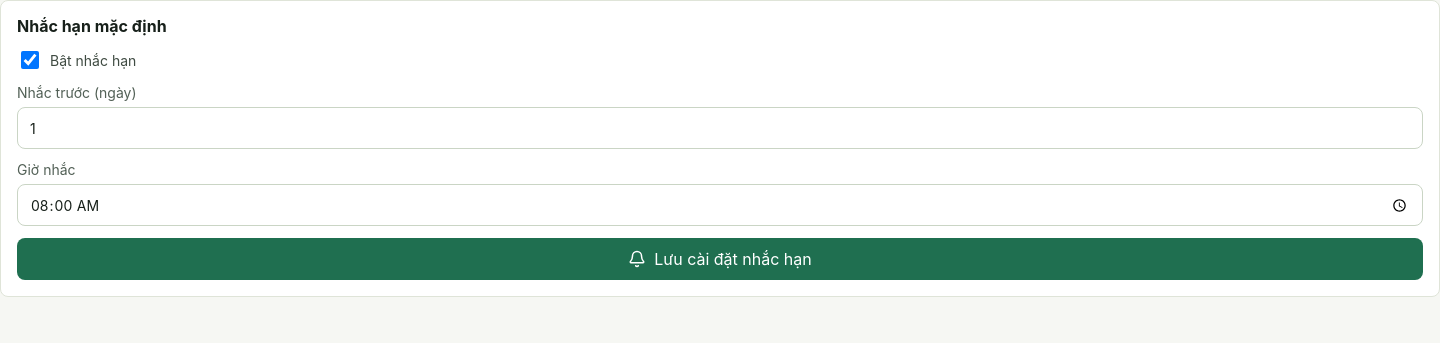
Test: ReminderSettings › keeps invalid global reminder values out of persistence
Replace the text in the field labelled "Nhắc trước (ngày)" with "-1" at (720, 128), box [17,107,1423,149]
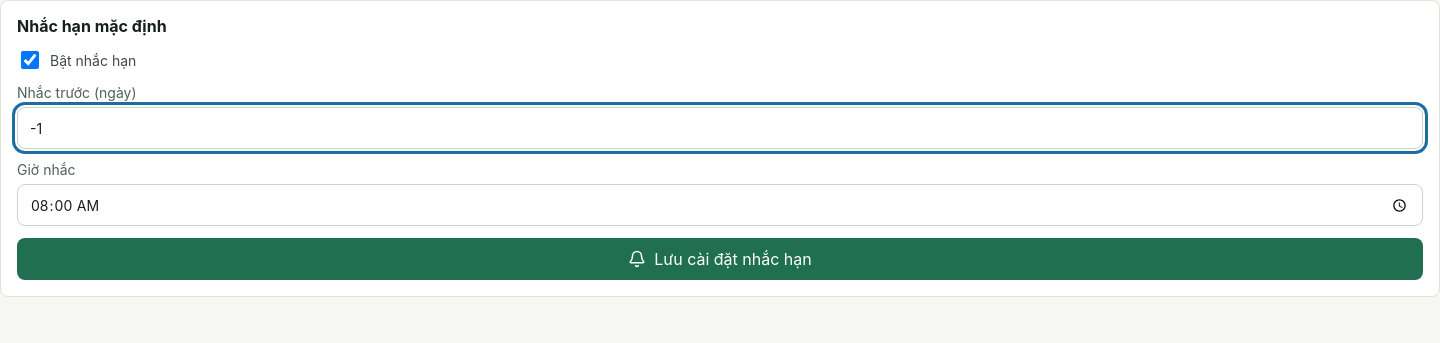
Click the button "Lưu cài đặt nhắc hạn" at (720, 259), box [17,238,1423,280]
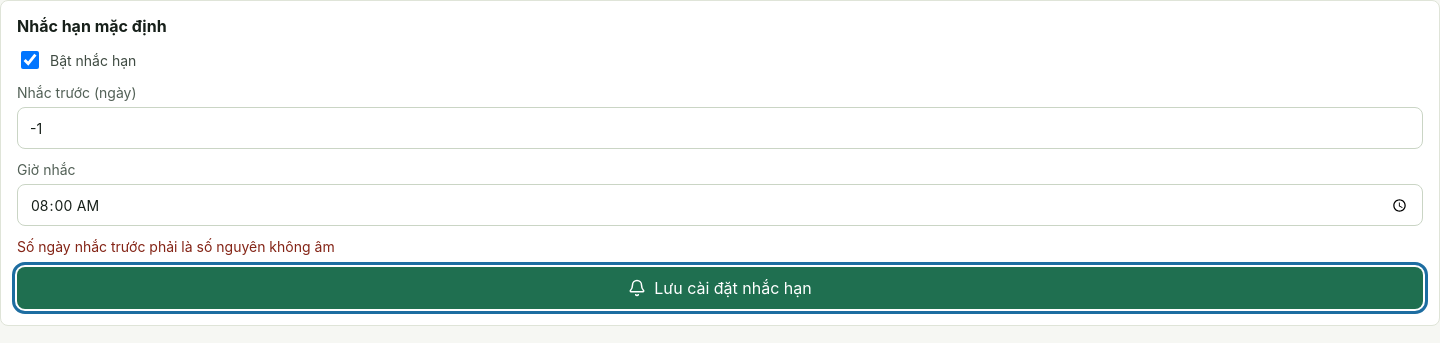
Expected: the message reads "Số ngày nhắc trước phải là số nguyên không âm", [17,238,335,255]
